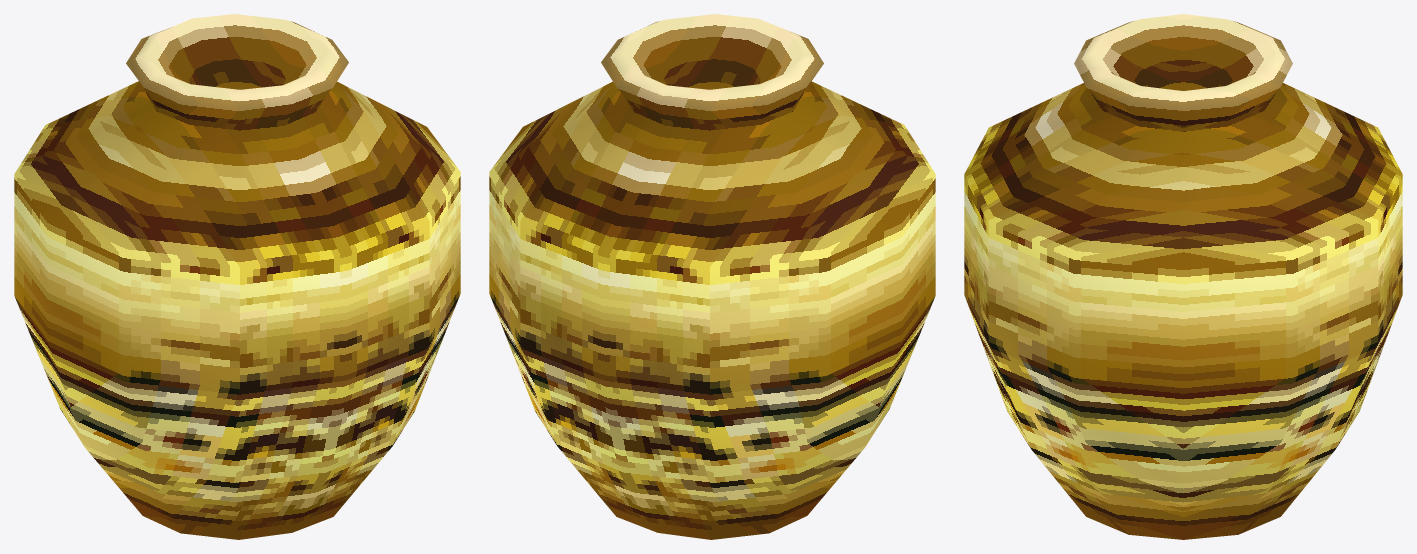
File: tubo36.glb
3 views of the same model, side by side, from view 1: azimuth 30°, elevation 25°; view 2: azimuth 150°, elevation 25°; view 3: azimuth 270°, elevation 25° (orthographic).
Visible parts, largest first — view 1: tubo36; view 2: tubo36; view 3: tubo36.
Part boxes in pixels (left/top/right/bottom): tubo36: left=14, top=14, right=460, bottom=539; tubo36: left=489, top=14, right=935, bottom=539; tubo36: left=964, top=14, right=1402, bottom=539.
Size of the model in its own units: 72 by 80 by 72.
1 material, 1 textured.
